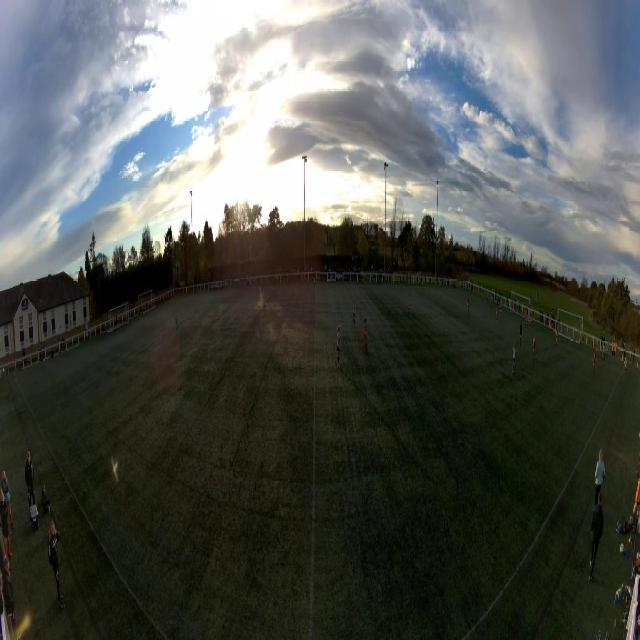player: (336, 326, 341, 368), (364, 319, 368, 353), (512, 344, 516, 374), (352, 300, 356, 328), (532, 333, 536, 360), (592, 350, 596, 372), (602, 340, 606, 362), (606, 342, 610, 360), (519, 321, 522, 343), (175, 314, 178, 336), (408, 293, 411, 315), (467, 296, 470, 315), (550, 320, 553, 338), (596, 338, 599, 356), (555, 330, 558, 347), (525, 313, 528, 328), (529, 310, 531, 329), (500, 303, 502, 321), (496, 305, 498, 323), (525, 307, 527, 322), (490, 297, 492, 311)
